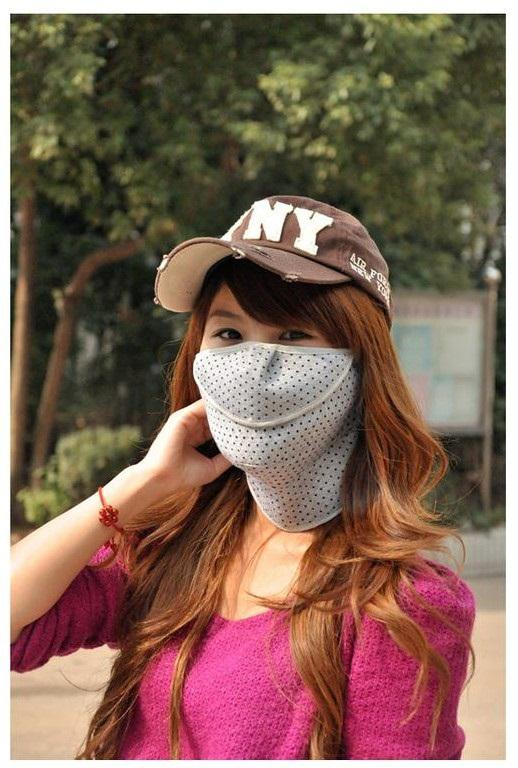OK: (197, 308, 356, 469)
